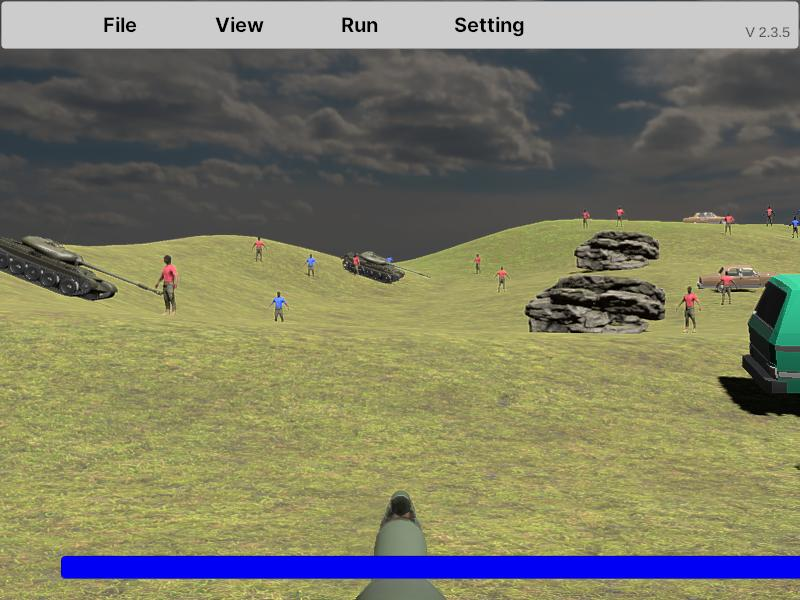Human: (156, 254, 178, 317), (677, 286, 702, 333), (716, 271, 737, 306)
Tank: (1, 232, 159, 302), (343, 251, 430, 284)
car: (743, 274, 800, 416), (698, 265, 778, 291)
